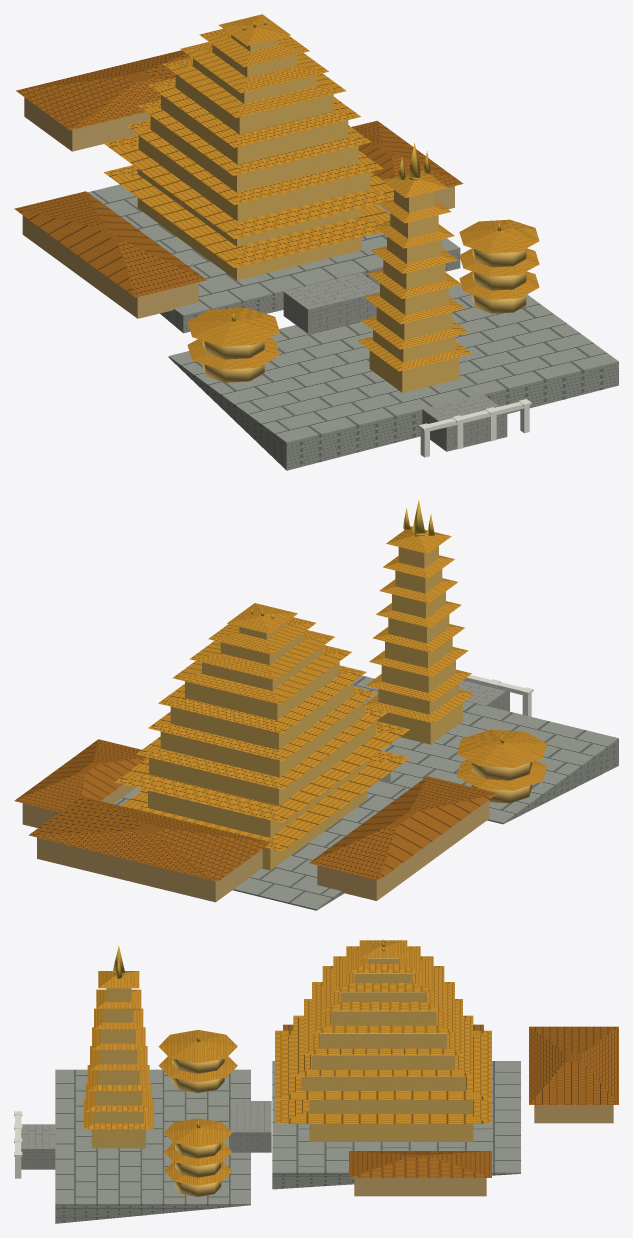
File: van-linh-lod.glb
3 views of the same model, one above another, from view 1: azimuth 30°, elevation 25°; view 2: azimuth 150°, elevation 25°; view 3: azimuth 270°, elevation 25° (orthographic). The views are drawn at different scales.
Parts seen in each view (by area): view 1: van-linh-far; view 2: van-linh-far; view 3: van-linh-far.
Part boxes in pixels (box(x1,y1,x2,y2)): van-linh-far: box(14, 14, 618, 470); van-linh-far: box(14, 499, 618, 910); van-linh-far: box(14, 939, 618, 1223).
Size of the model in its own units: 66.5 by 45.66 by 114.
1 material, 1 textured.
